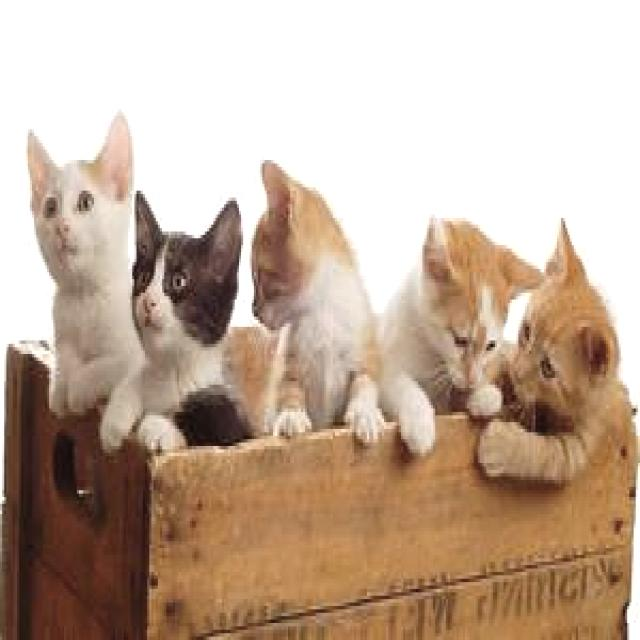KEDI: (370, 197, 543, 448), (244, 150, 380, 442), (478, 211, 616, 480), (26, 110, 138, 431), (100, 194, 240, 447)
